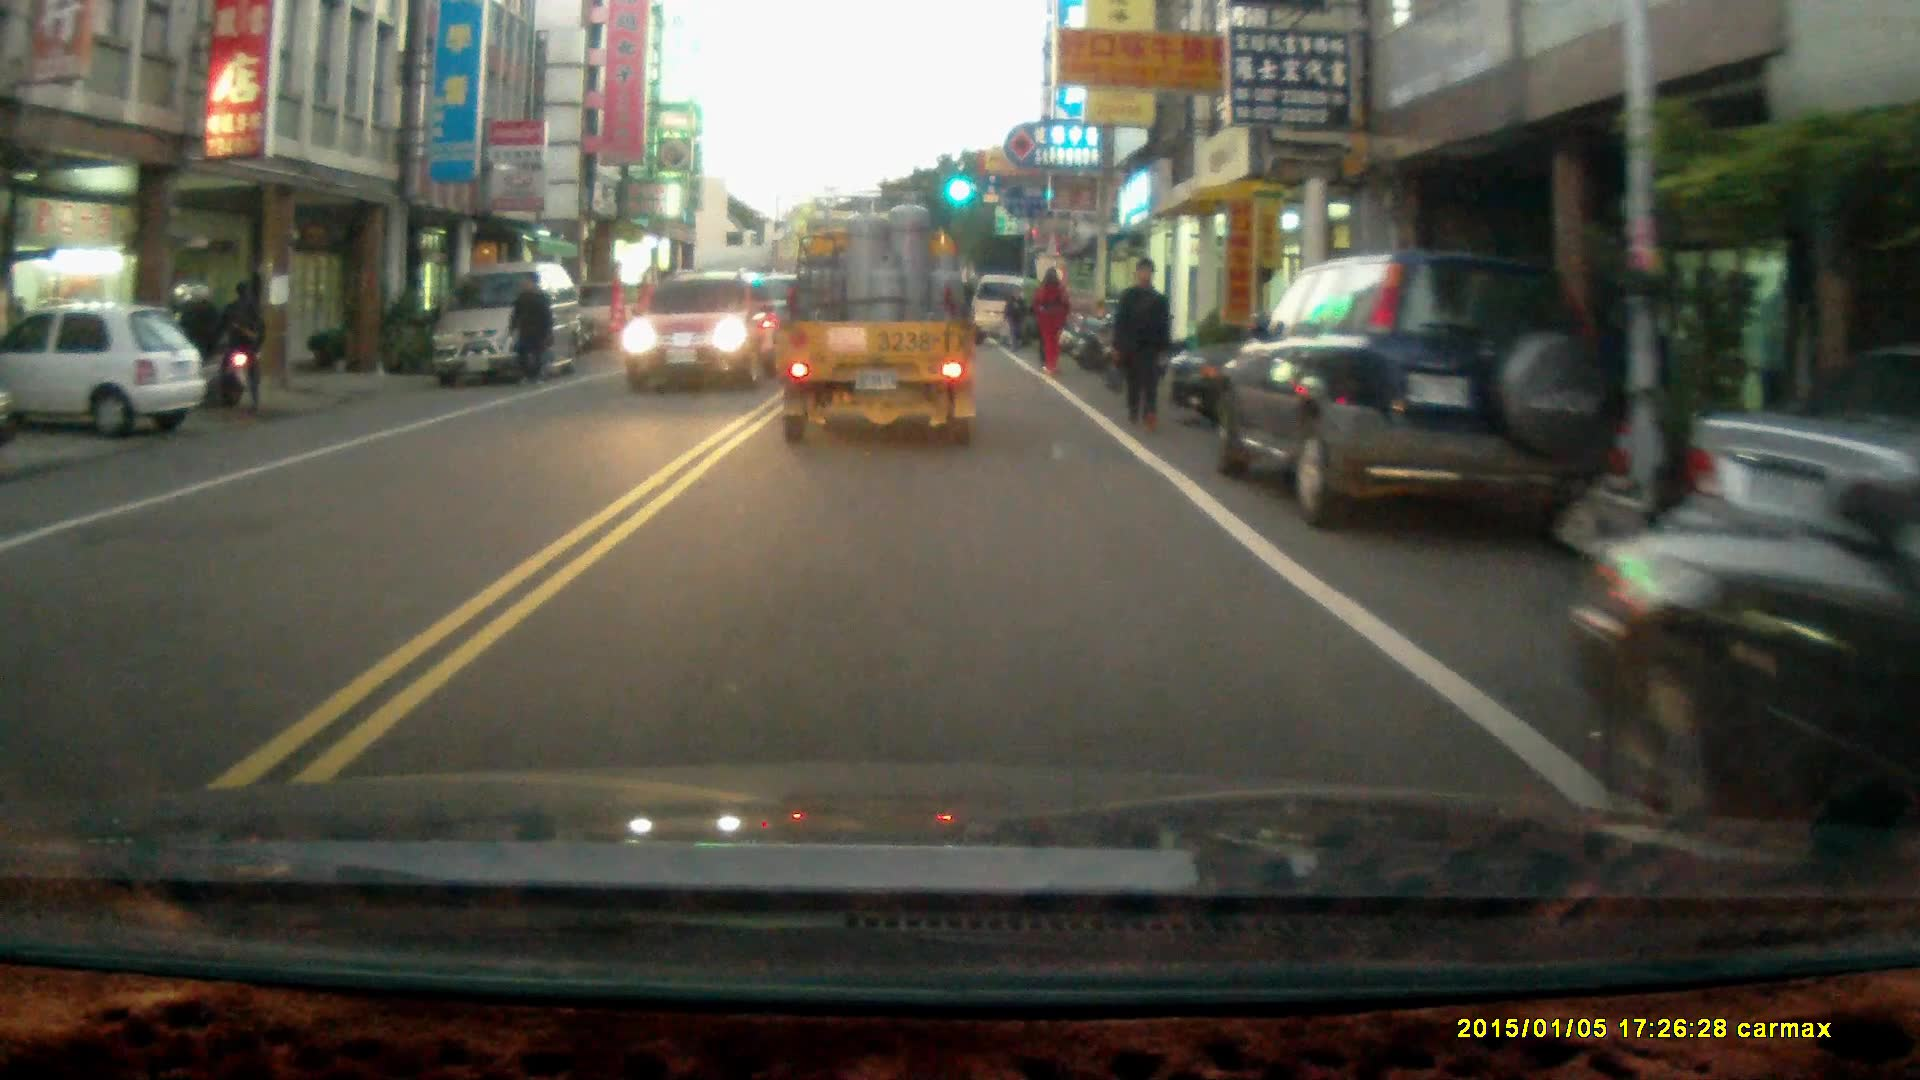pedestrian: (1109, 252, 1175, 431), (222, 273, 269, 402), (506, 271, 553, 390), (1030, 263, 1068, 374), (999, 284, 1029, 352)
rider: (158, 278, 245, 409)
vehicle: (1573, 448, 1920, 853), (1216, 248, 1618, 533), (773, 189, 981, 452), (1, 302, 215, 444), (430, 260, 587, 381), (622, 274, 769, 390)
